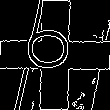O_E: (29, 33, 81, 77)
